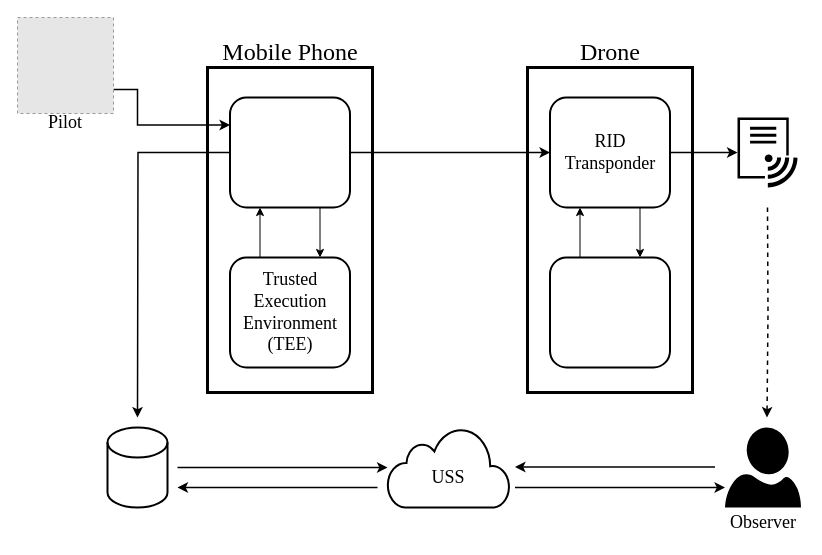
Image size: 822x555. Some labels were removed from this diagram. Grey dashed boxes stand in for pictures. The shapes that lost their labels are listed below. From the top down, each one's centre as x and y in pixels, then its label:
At pixel 289 152: "Application".
At pixel 609 312: "Flight Controller".
